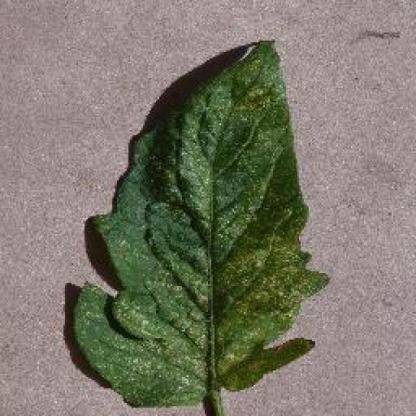Tomato_Spider_Mites: (76, 39, 327, 405)
